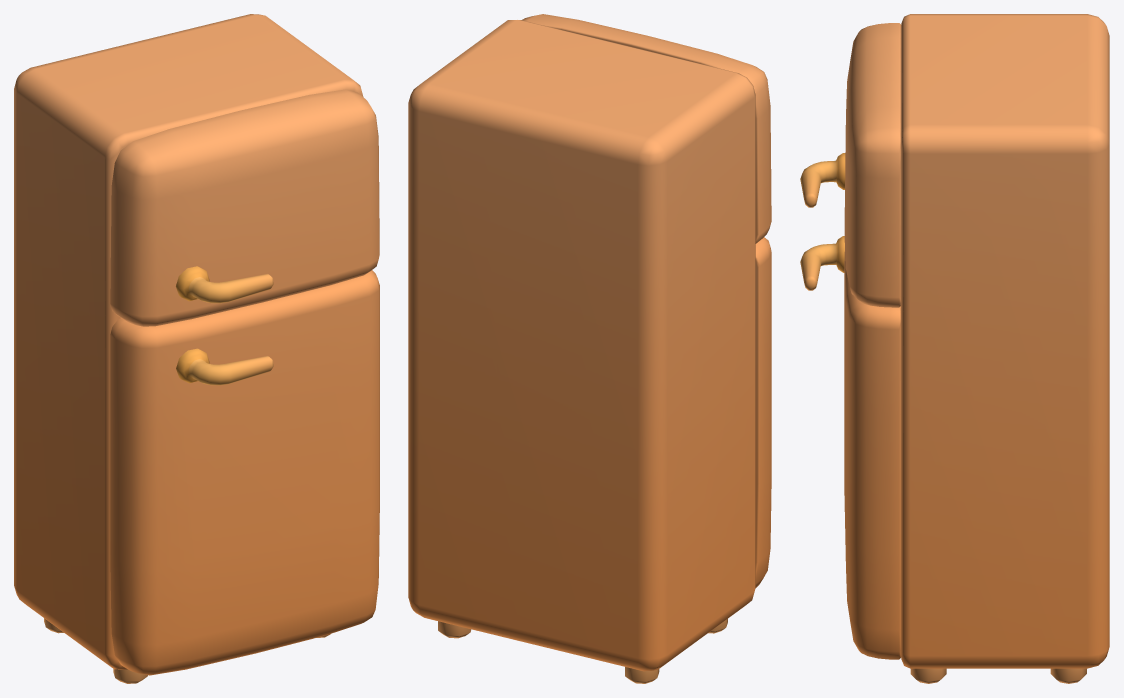
Rendered from Fridge_001.fbx.
3 views of the same model, side by side, from view 1: azimuth 30°, elevation 25°; view 2: azimuth 150°, elevation 25°; view 3: azimuth 270°, elevation 25° (orthographic).
Parts seen in each view (by area): view 1: Fridge_Door_01_002, Fridge_001, Fridge_Door_01_001; view 2: Fridge_001, Fridge_Door_01_001, Fridge_Door_01_002; view 3: Fridge_001, Fridge_Door_01_002, Fridge_Door_01_001.
Part boxes in pixels (bbox=[...]): Fridge_Door_01_002: bbox=[110, 270, 379, 675]; Fridge_001: bbox=[14, 14, 363, 683]; Fridge_Door_01_001: bbox=[110, 89, 379, 326]; Fridge_001: bbox=[408, 20, 755, 683]; Fridge_Door_01_001: bbox=[521, 14, 771, 243]; Fridge_Door_01_002: bbox=[755, 237, 771, 587]; Fridge_001: bbox=[901, 14, 1109, 683]; Fridge_Door_01_002: bbox=[800, 236, 901, 659]; Fridge_Door_01_001: bbox=[800, 23, 901, 307].
Bounding box in the file's own units: 0.68 × 1.4 × 0.6985.
